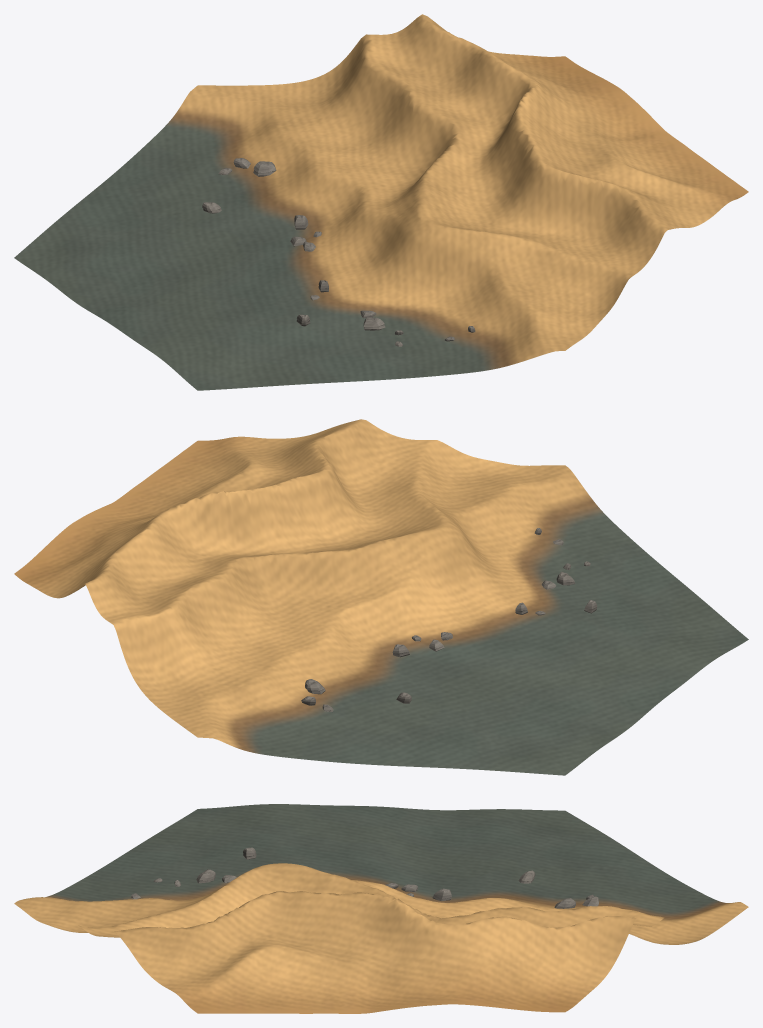
Rendered from dunas-v01.glb.
3 renders of one model, top to bottom at view 1: azimuth 30°, elevation 25°; view 2: azimuth 150°, elevation 25°; view 3: azimuth 270°, elevation 25°, orthographic.
Parts seen in each view (by area): view 1: terrain, Afloramentos; view 2: terrain, Afloramentos; view 3: terrain, Afloramentos.
Boxes of the visible parts, x1=… form: terrain: x1=14, y1=14, x2=748, y2=390; Afloramentos: x1=202, y1=158, x2=475, y2=346; terrain: x1=14, y1=419, x2=748, y2=775; Afloramentos: x1=301, y1=528, x2=597, y2=711; terrain: x1=14, y1=804, x2=748, y2=1013; Afloramentos: x1=131, y1=847, x2=598, y2=908.
Size of the model in its own units: 4330 by 896 by 5000.
2 materials, 2 textured.
